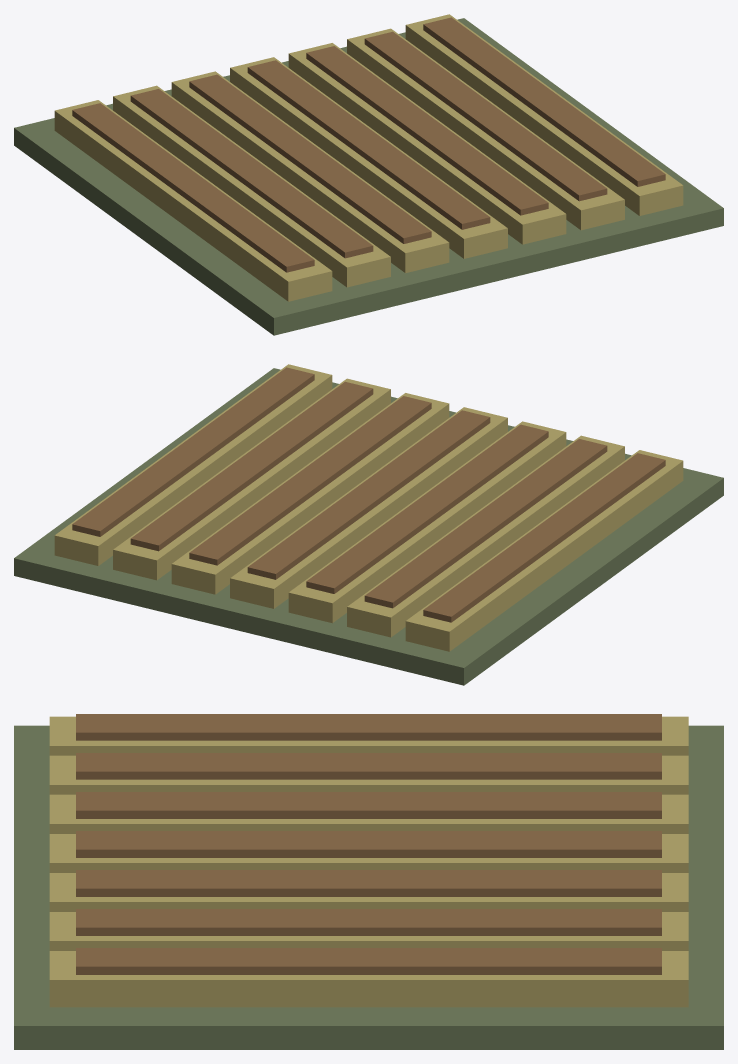
Rendered from terrain_tile_barley.glb.
3 views of the same model, one above another, from view 1: azimuth 30°, elevation 25°; view 2: azimuth 150°, elevation 25°; view 3: azimuth 270°, elevation 25° (orthographic). The views are drawn at different scales.
Visible parts, largest first — view 1: terrain_tile_barley; view 2: terrain_tile_barley; view 3: terrain_tile_barley.
Boxes of the visible parts, x1,y1,x2,y2 form: terrain_tile_barley: [14, 14, 723, 335]; terrain_tile_barley: [14, 364, 723, 685]; terrain_tile_barley: [14, 714, 723, 1049].
Size of the model in its own units: 8 by 0.74 by 8.
